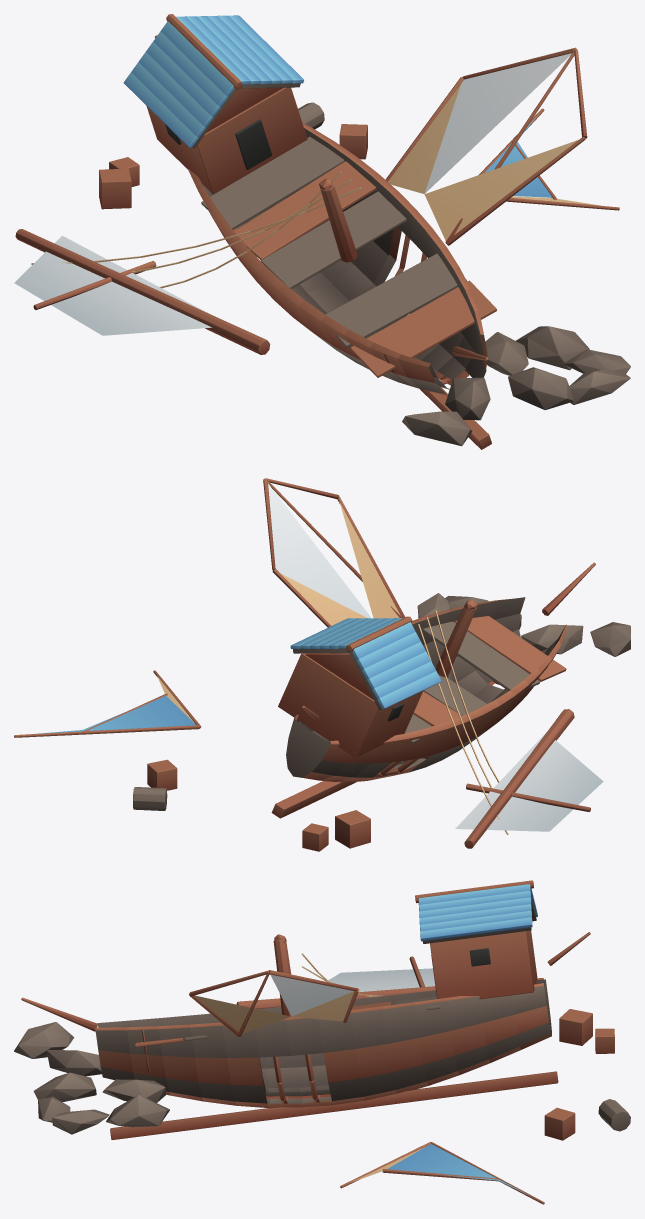
Rendered from wrecked_skyship.glb.
3 renders of one model, top to bottom at view 1: azimuth 30°, elevation 25°; view 2: azimuth 150°, elevation 25°; view 3: azimuth 270°, elevation 25°, orthographic. The views are drawn at different scales.
Visible parts, largest first — view 1: wrecked_skyship; view 2: wrecked_skyship; view 3: wrecked_skyship.
Boxes of the visible parts, x1=… form: wrecked_skyship: x1=14, y1=14, x2=630, y2=449; wrecked_skyship: x1=14, y1=478, x2=630, y2=851; wrecked_skyship: x1=14, y1=880, x2=630, y2=1204.
Bounding box in the file's own units: 17.93 × 8.43 × 19.15.
1 material, 1 textured.
